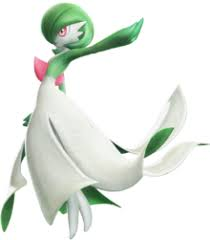gardevoir: (1, 3, 207, 236)
